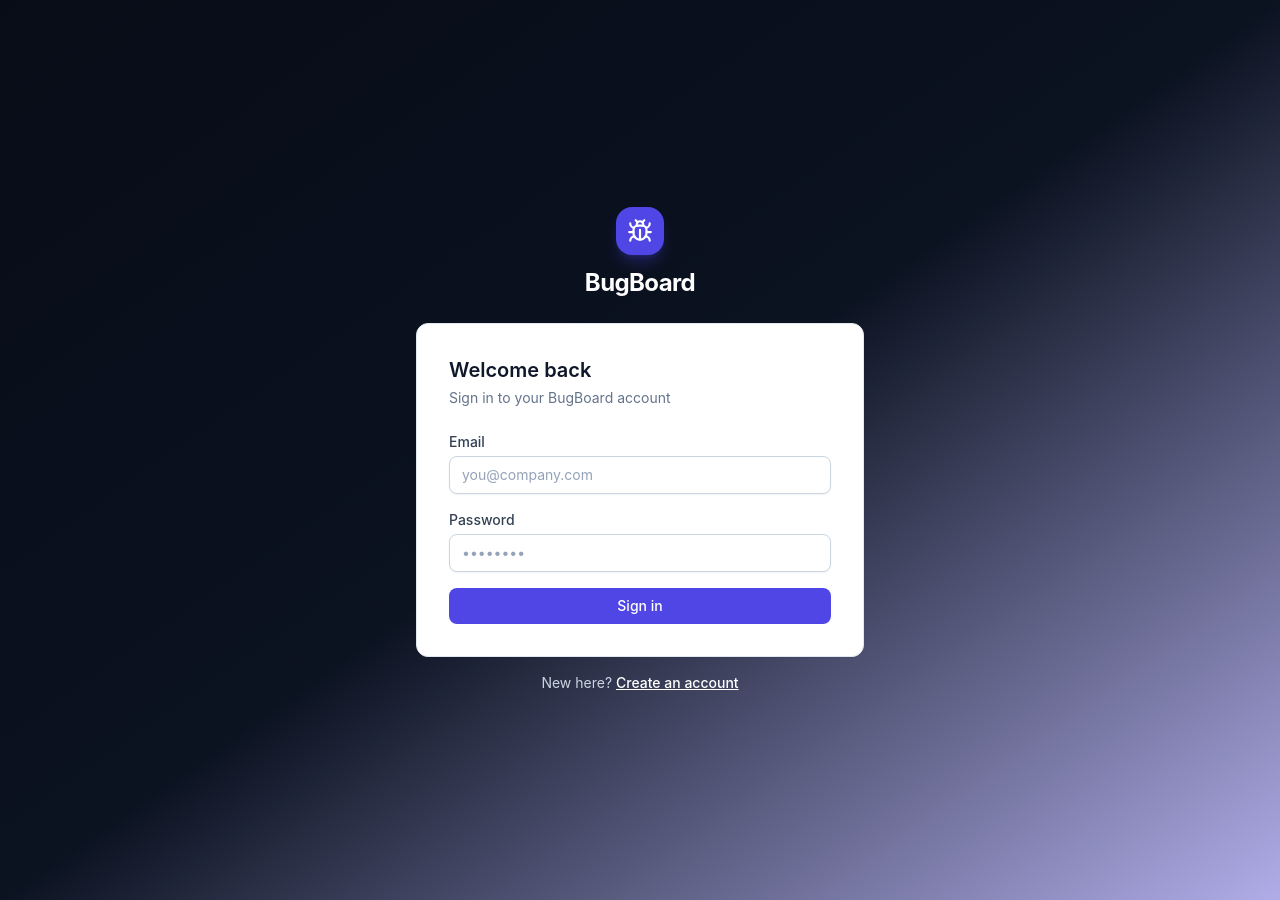
Test: login form › shows the server error for bad credentials
Type "dana@test.com" into the field labelled "Email" at (640, 475), box [449,456,831,494]
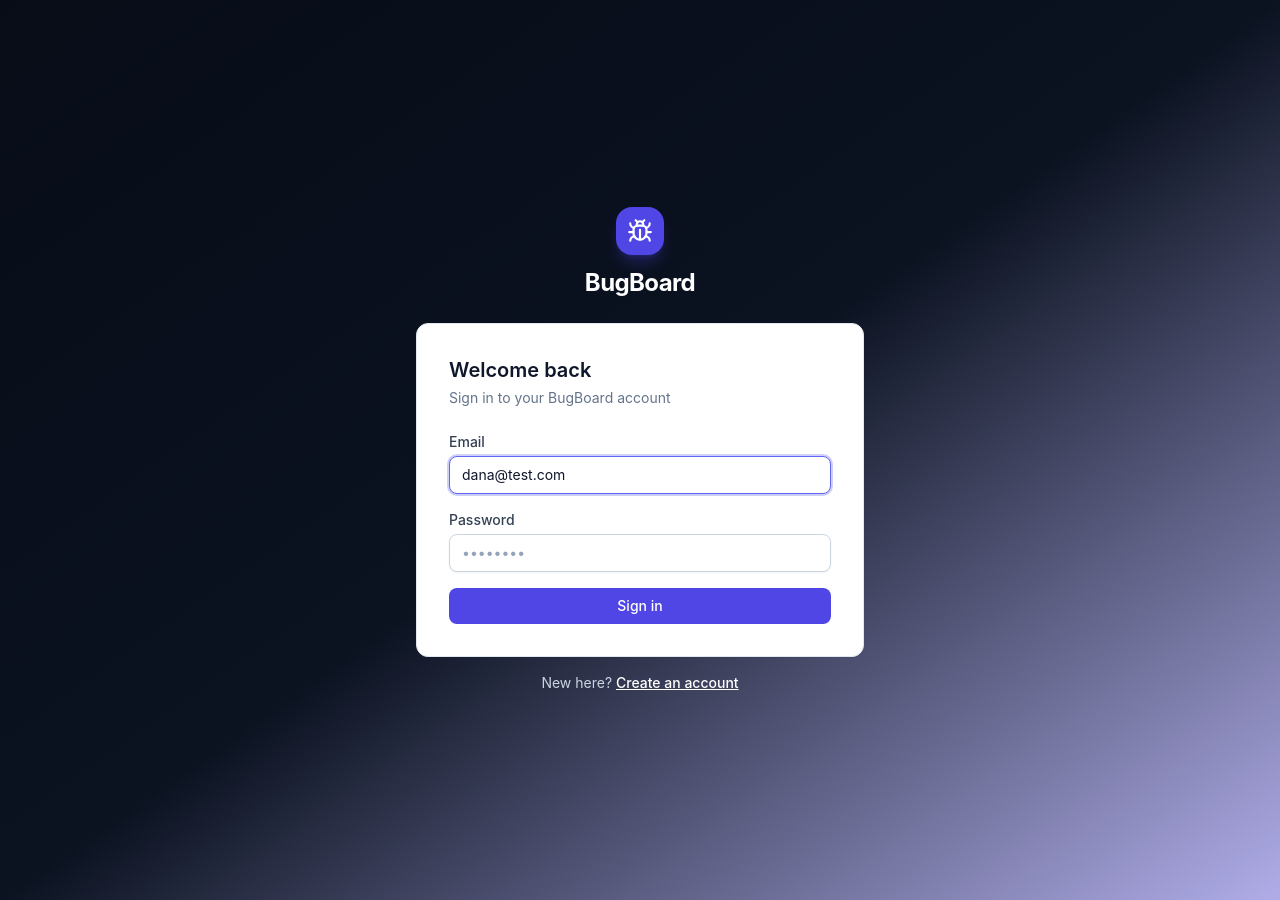
Type "wrong" into the password field labelled "Password" at (640, 553), box [449,534,831,572]
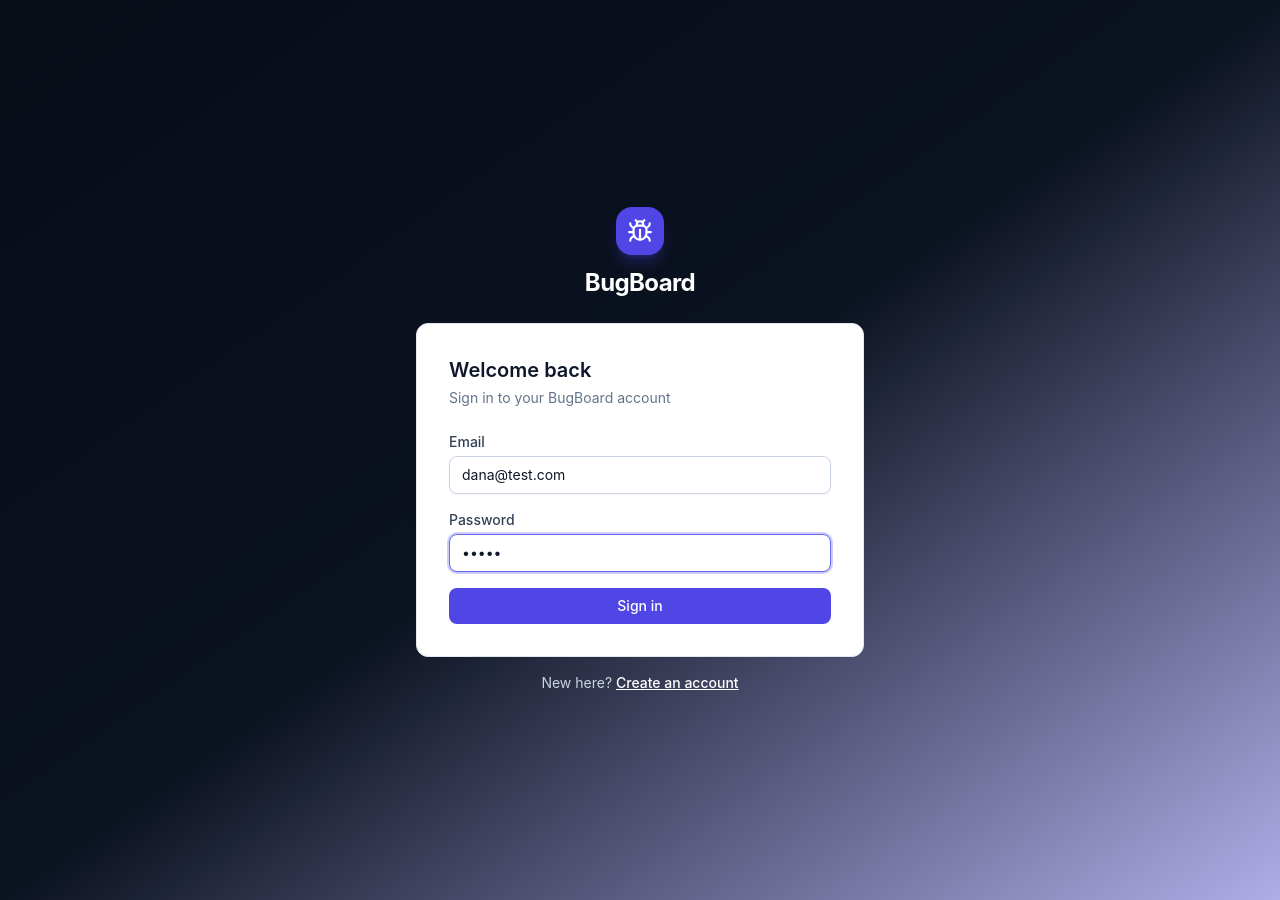
Click the button "Sign in" at (640, 606), box [449,588,831,624]
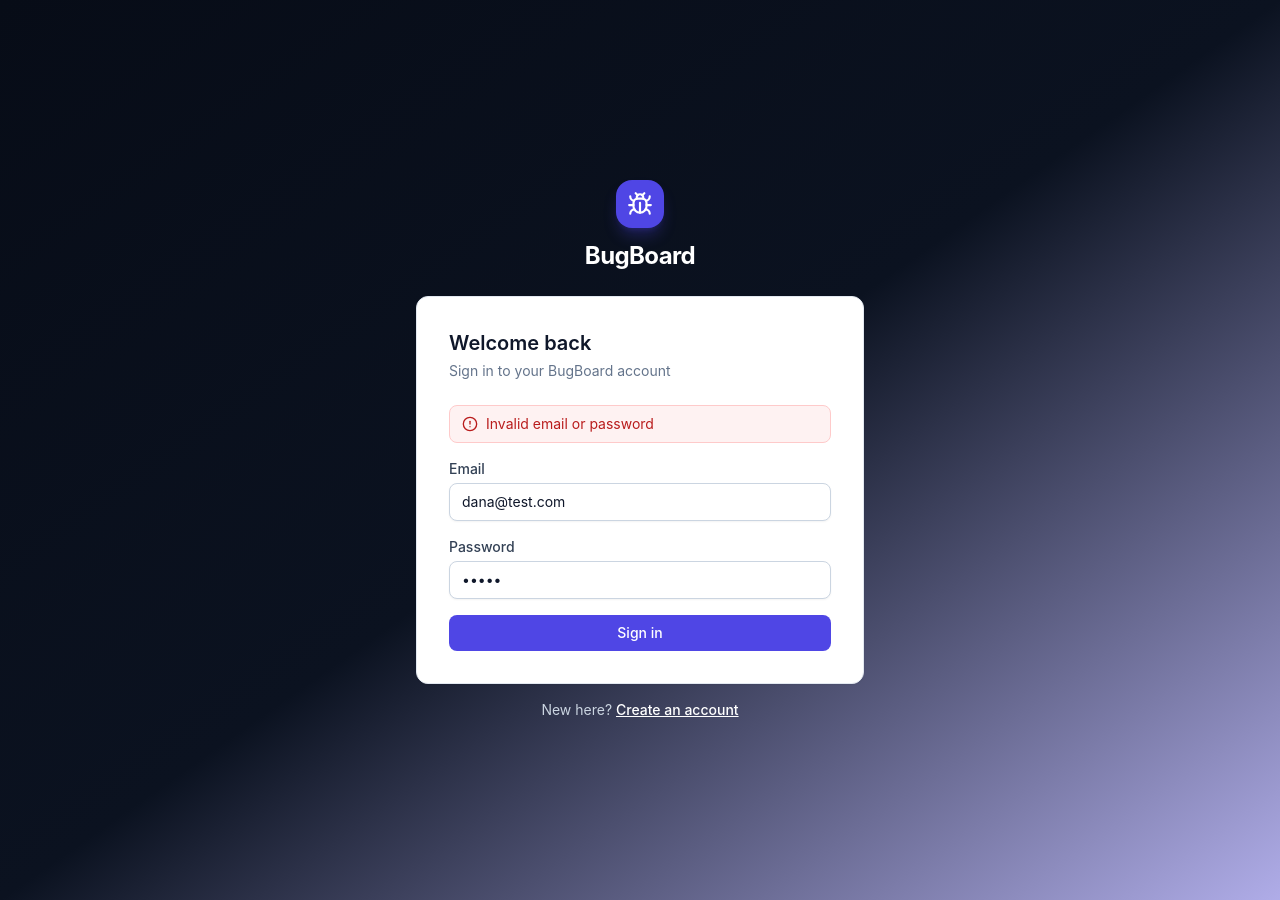
Expected: the message reads "Invalid email or password", [486,415,654,432]
